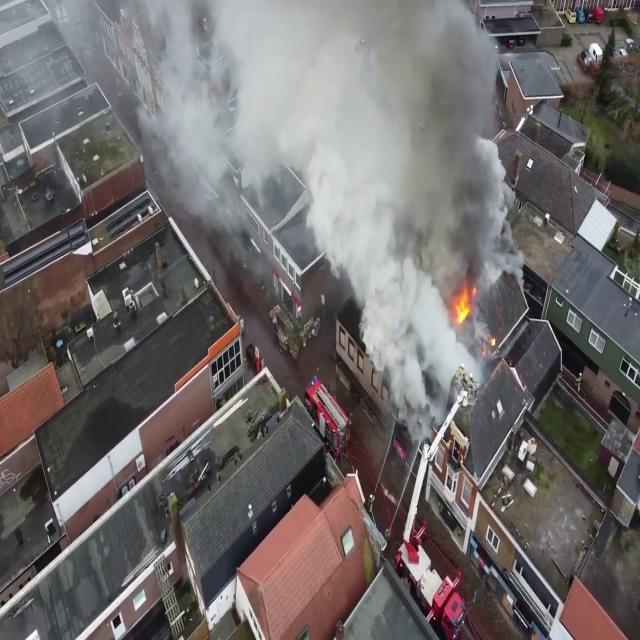Fire: (450, 276, 478, 330)
Smoke: (130, 0, 520, 247), (328, 0, 520, 403)
